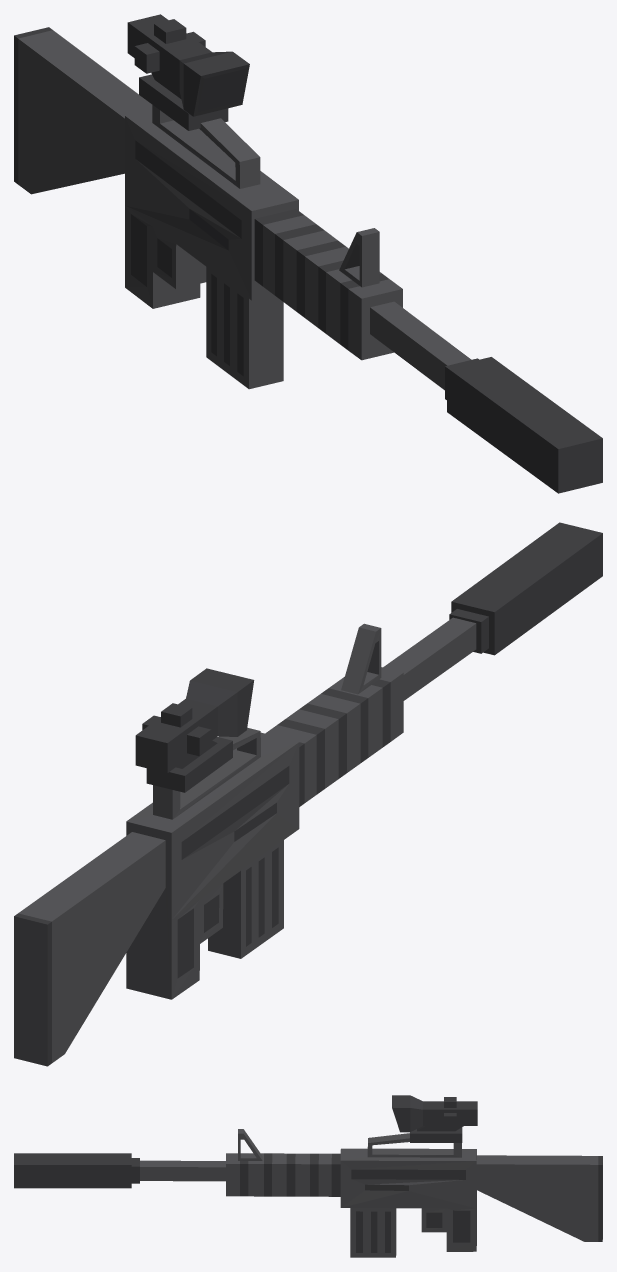
File: sniper-rifle.obj
3 views of the same model, one above another, from view 1: azimuth 30°, elevation 25°; view 2: azimuth 150°, elevation 25°; view 3: azimuth 270°, elevation 25° (orthographic). The views are drawn at different scales.
Parts seen in each view (by area): view 1: sniper-rifle.obj; view 2: sniper-rifle.obj; view 3: sniper-rifle.obj.
Boxes of the visible parts, x1=… form: sniper-rifle.obj: x1=14, y1=14, x2=602, y2=493; sniper-rifle.obj: x1=14, y1=522, x2=602, y2=1066; sniper-rifle.obj: x1=14, y1=1095, x2=602, y2=1257.
Size of the model in its own units: 0.1215 by 0.5706 by 1.99.
